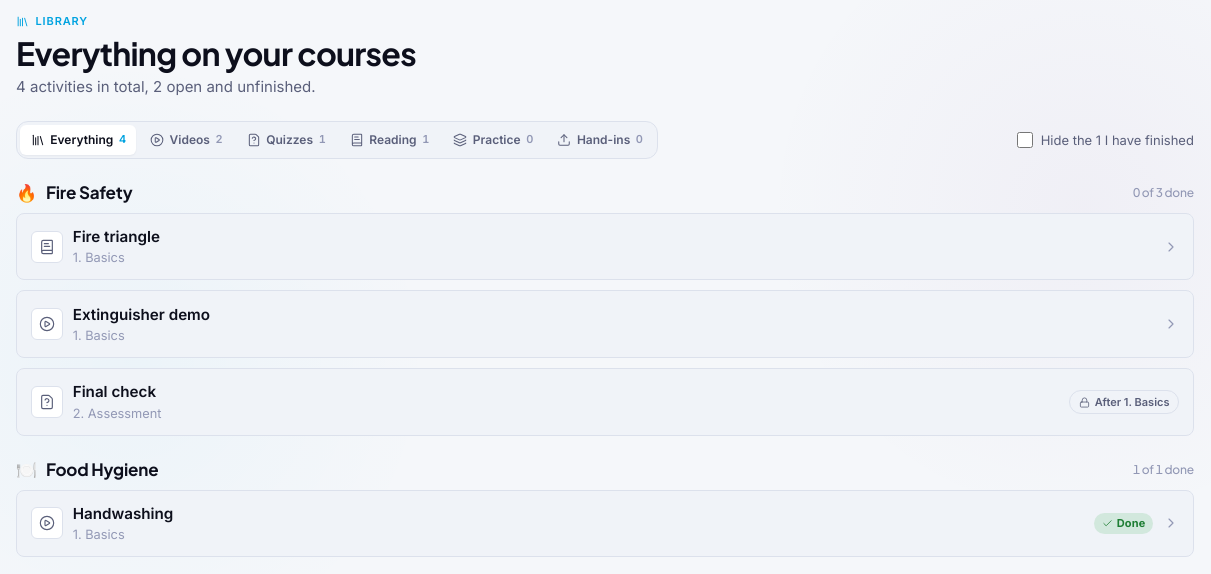
Test: filtering › narrows to one kind
Click the button "Videos 2" at coordinates (186, 140), box [140,125,233,155]
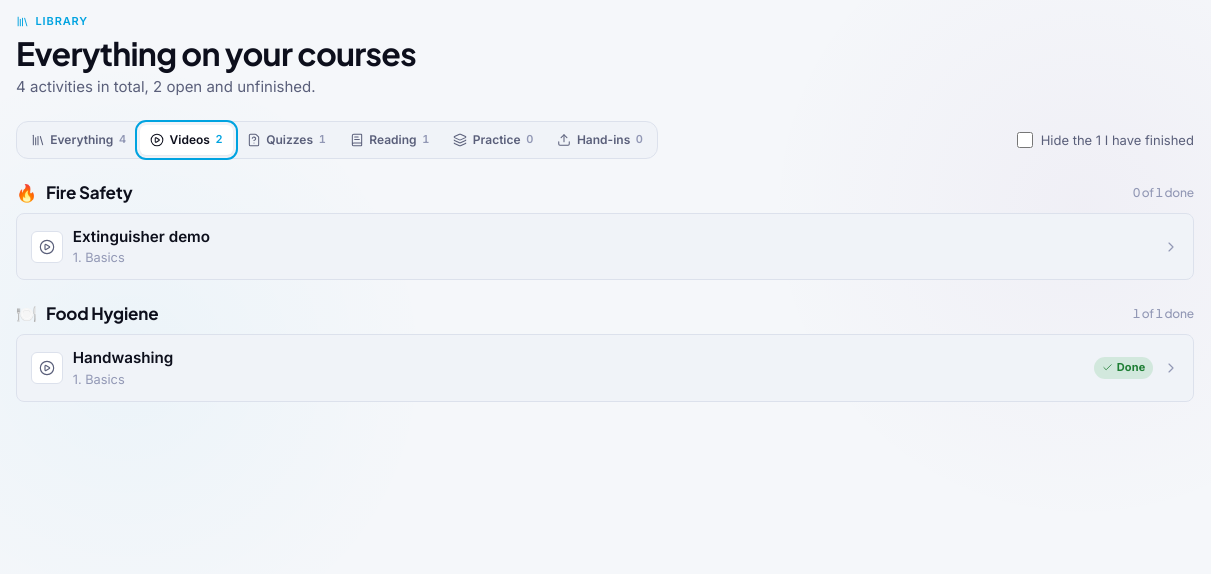
Expected: the text "Extinguisher demo" is shown, [73,227,210,246]
Expected: the link "Fire triangle" is gone
